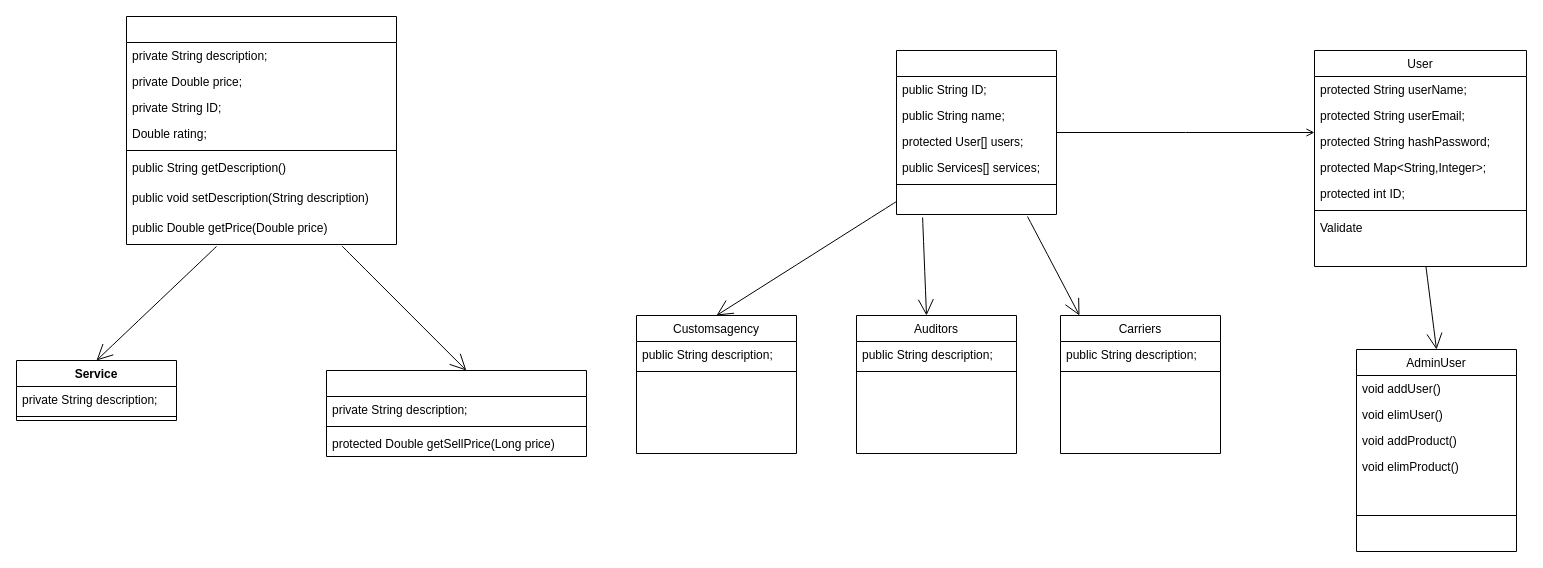
This 1543x568 diagram has some shape labels left out. Each missing label, with the box of its shape:
Organization: (896, 50, 1056, 214)
Product: (326, 370, 586, 456)
Ticket: (126, 16, 396, 244)
